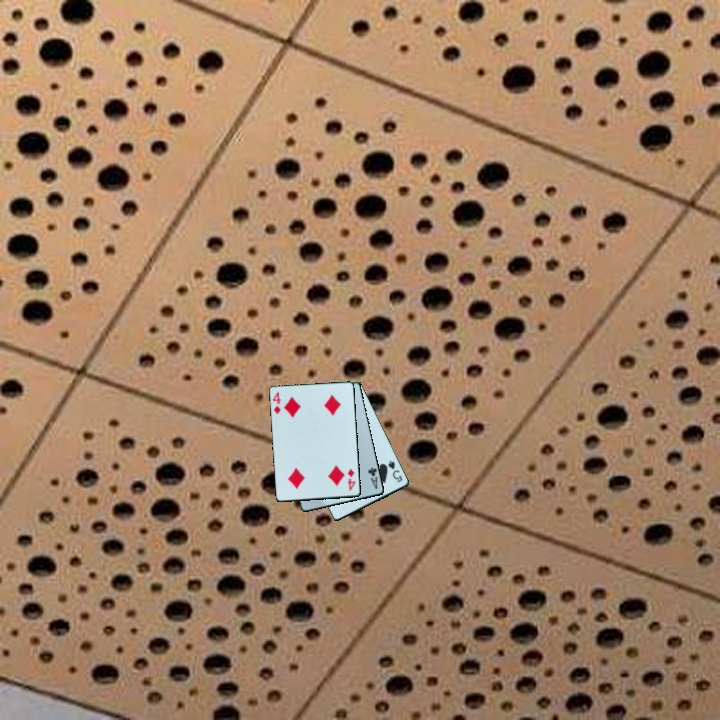4d: (269, 388, 284, 417), (344, 465, 359, 493)
5s: (385, 457, 406, 486)
Ac: (365, 464, 381, 492)
